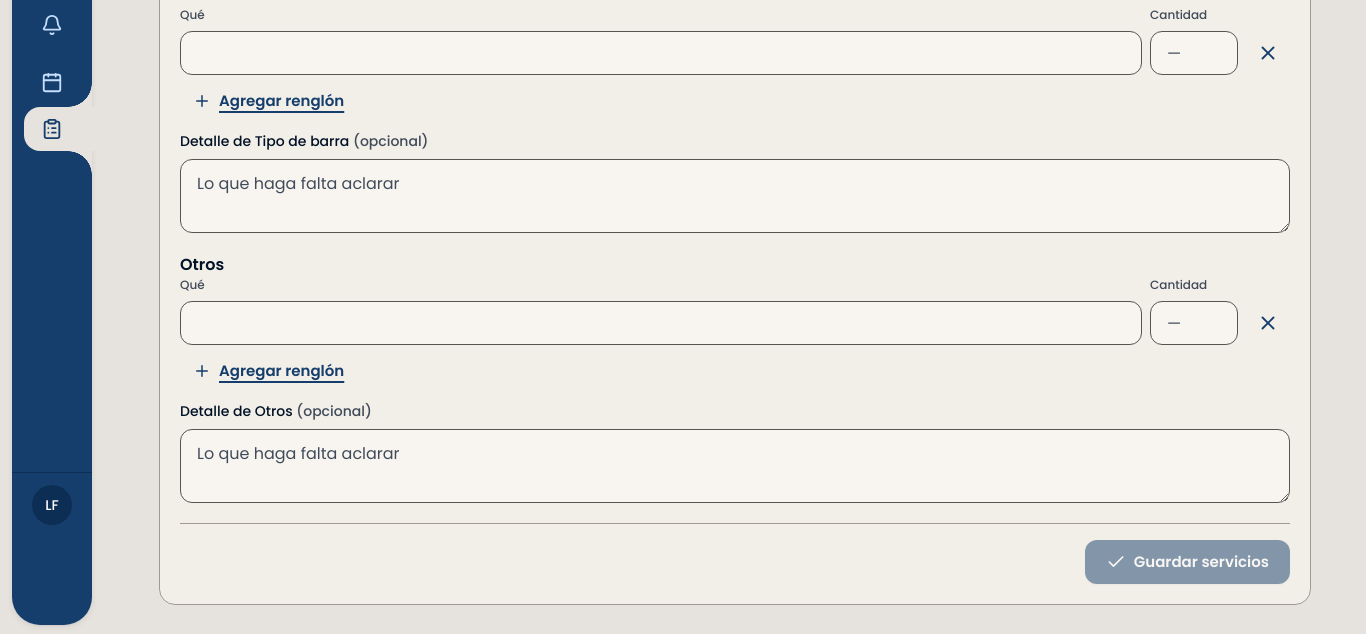
Test: UI-13 · servicios contratados (M-09) › muestra lo que rechaza el sistema
(page scrolled)
Type "Cabina de fotos" into the 2nd field named "Otros: renglón 1" at (661, 323), box x1=180 y1=301 x2=1142 y2=345
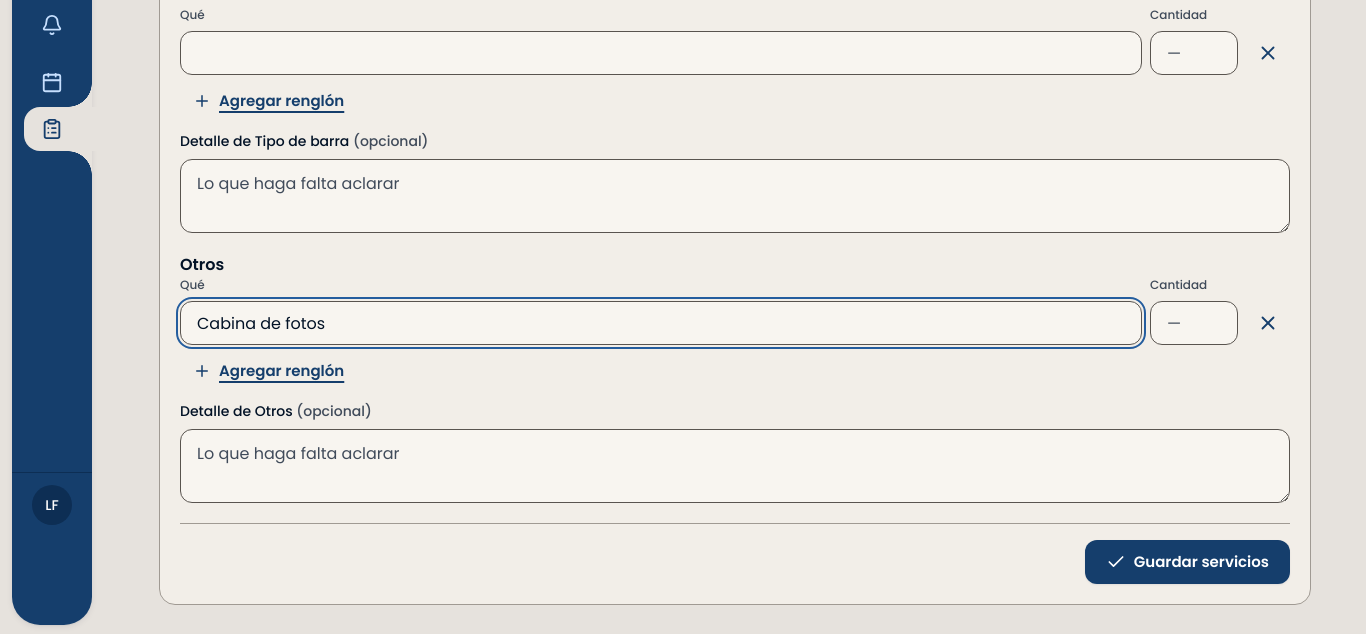
Click the button "Guardar servicios" at (1187, 562), box x1=1085 y1=540 x2=1290 y2=584
(page scrolled)
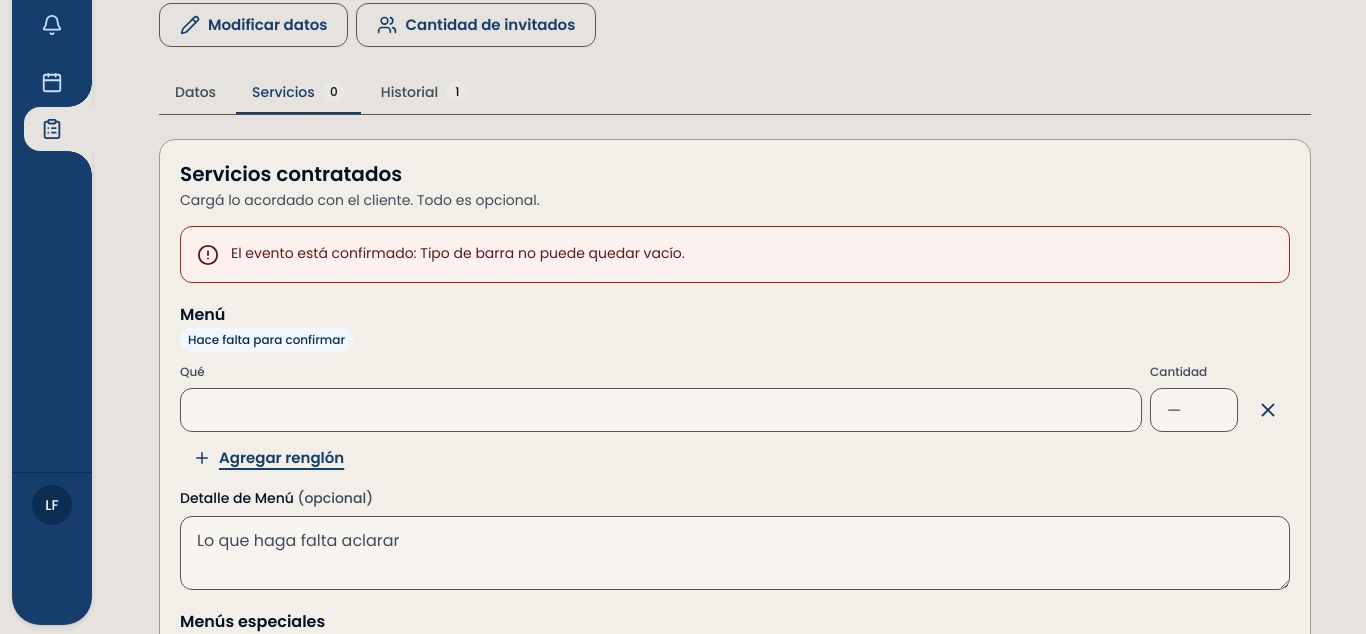
Expected: the text "El evento está confirmado: Tipo de barra no puede quedar vacío." is shown, x1=231 y1=243 x2=685 y2=263
